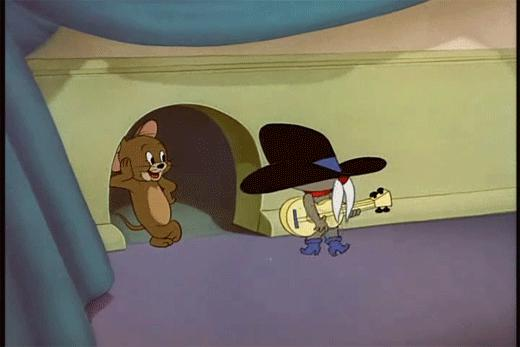jerry: (109, 118, 183, 249)
